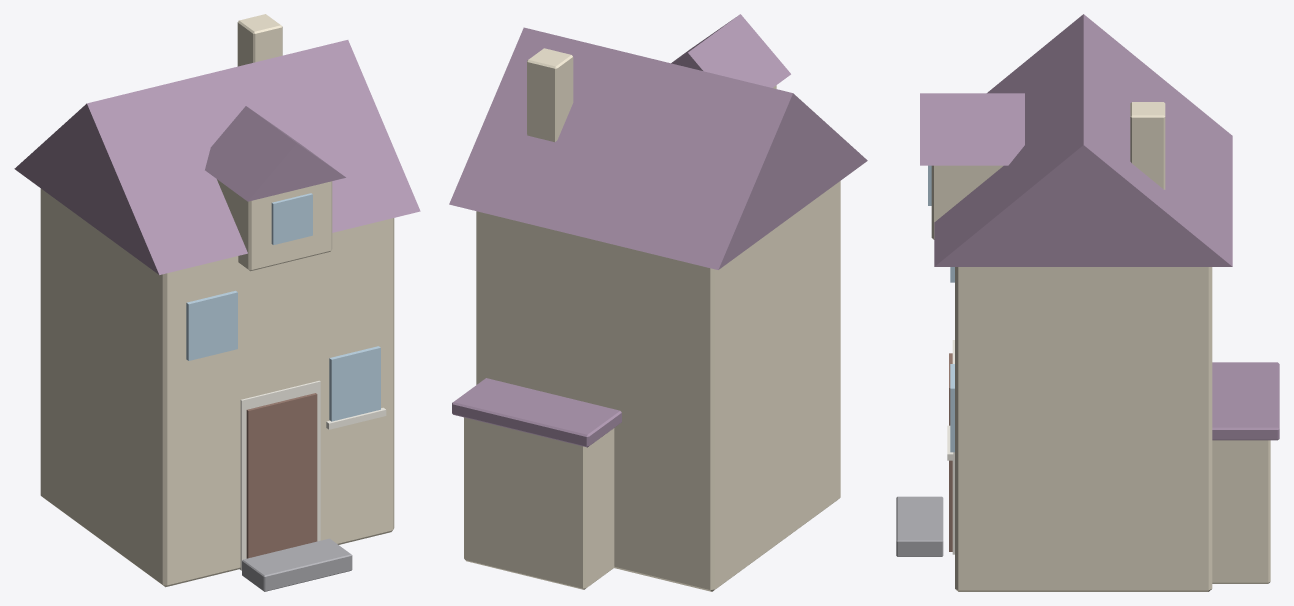
File: house_b.glb
3 views of the same model, side by side, from view 1: azimuth 30°, elevation 25°; view 2: azimuth 150°, elevation 25°; view 3: azimuth 270°, elevation 25° (orthographic). The views are drawn at different scales.
Visible parts, largest first — view 1: house_b; view 2: house_b; view 3: house_b.
Boxes of the visible parts, left/top/right/bottom form: house_b: left=14, top=14, right=420, bottom=591; house_b: left=449, top=14, right=867, bottom=591; house_b: left=896, top=14, right=1279, bottom=591.
Bounding box in the file's own units: 2.65 × 4.38 × 3.28.
